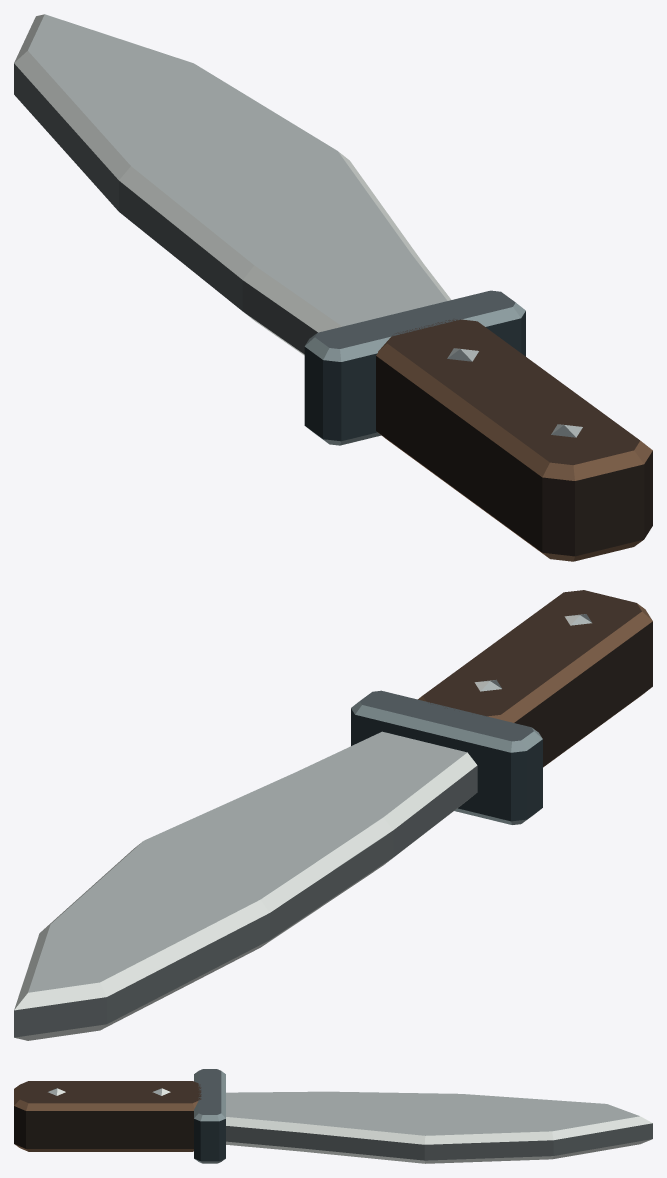
The model's file is machete.fbx.
3 renders of one model, top to bottom at view 1: azimuth 30°, elevation 25°; view 2: azimuth 150°, elevation 25°; view 3: azimuth 270°, elevation 25°, orthographic. The views are drawn at different scales.
Visible parts, largest first — view 1: machete; view 2: machete; view 3: machete.
Boxes of the visible parts, bbox=[...] form: machete: bbox=[14, 14, 652, 561]; machete: bbox=[14, 590, 652, 1040]; machete: bbox=[14, 1069, 652, 1163].
Size of the model in its own units: 0.54 by 0.226 by 2.38.
Materials: 1 (1 with a texture image).
